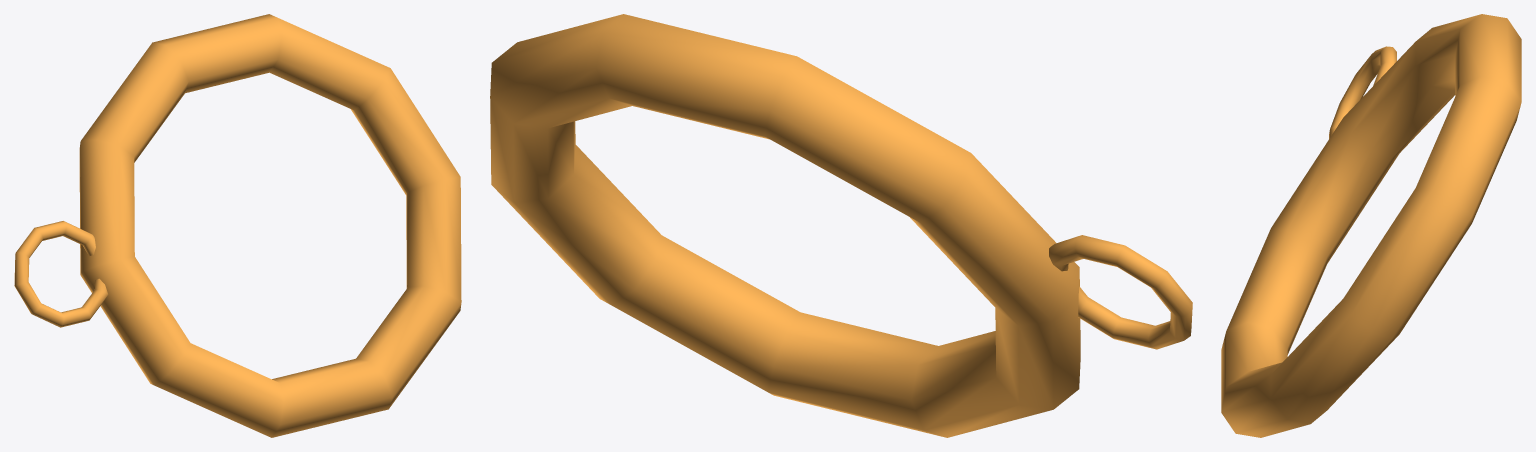
Rendered from monocle.fbx.
The picture shows the model from 3 angles, left to right: view 1: azimuth 30°, elevation 25°; view 2: azimuth 150°, elevation 25°; view 3: azimuth 270°, elevation 25°; orthographic projection. The views are drawn at different scales.
Visible parts, largest first — view 1: monocle; view 2: monocle; view 3: monocle.
Boxes of the visible parts, bbox=[...] form: monocle: bbox=[14, 14, 461, 437]; monocle: bbox=[490, 14, 1192, 437]; monocle: bbox=[1221, 14, 1521, 437].
Bounding box in the file's own units: 18.36 × 12.43 × 9.36.
